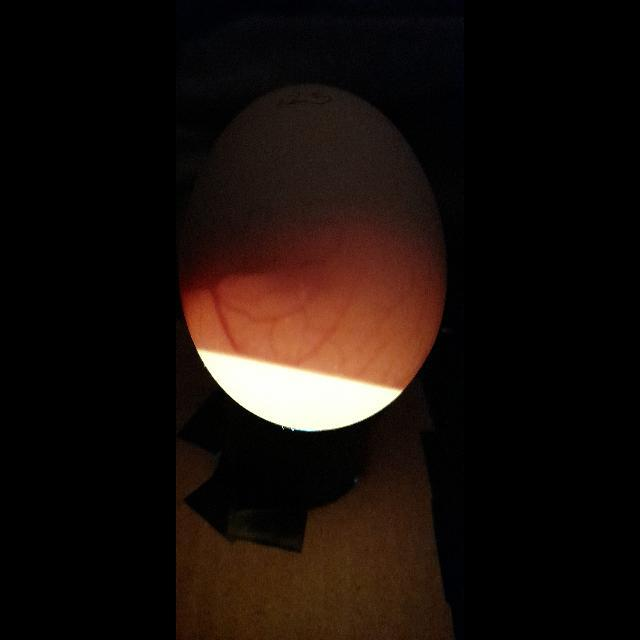Fertile: (183, 110, 449, 432)
